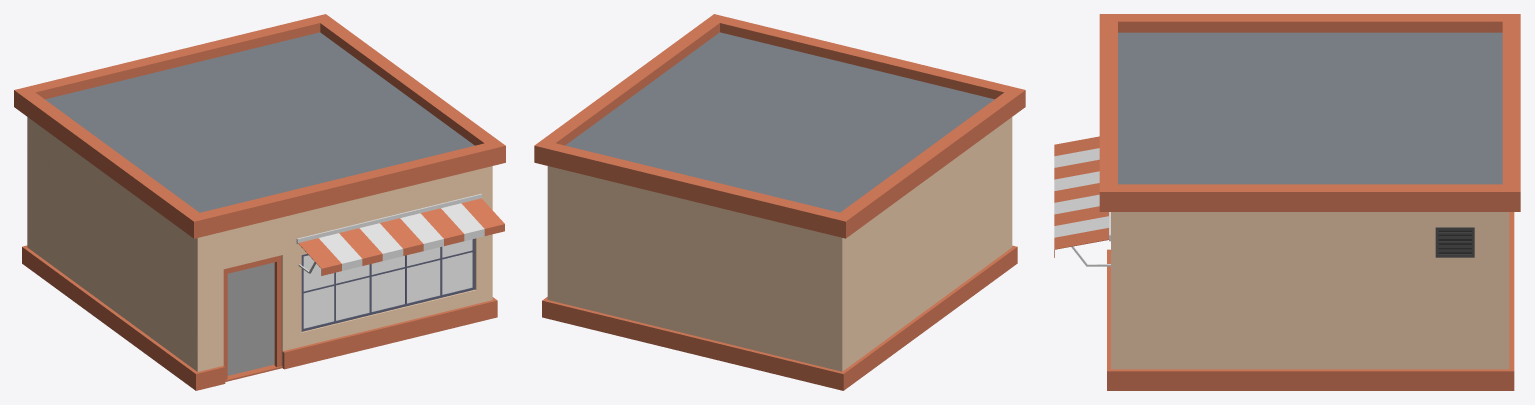
The model's file is SmallHouse_02.fbx.
The picture shows the model from 3 angles, left to right: view 1: azimuth 30°, elevation 25°; view 2: azimuth 150°, elevation 25°; view 3: azimuth 270°, elevation 25°; orthographic projection. The views are drawn at different scales.
Visible parts, largest first — view 1: SmallHouse_02; view 2: SmallHouse_02; view 3: SmallHouse_02.
Boxes of the visible parts, x1,y1,x2,y2 form: SmallHouse_02: (14,14,505,390); SmallHouse_02: (534,14,1025,390); SmallHouse_02: (1054,14,1520,390).
Size of the model in its own units: 634 by 336 by 703.
